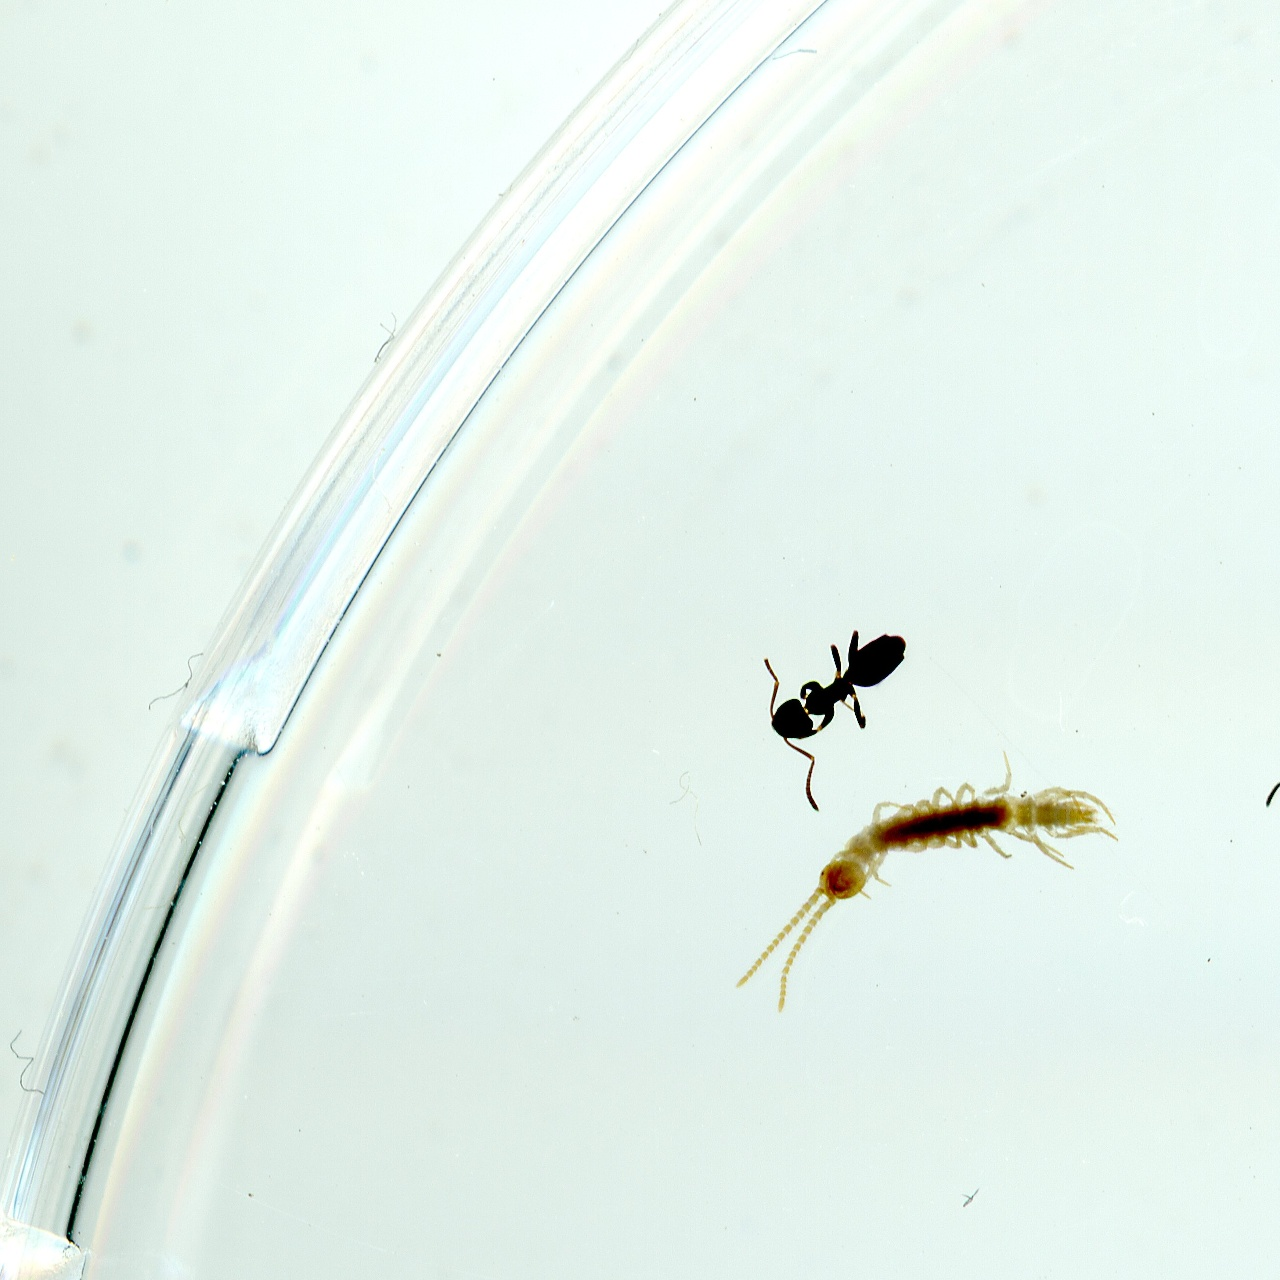arthropod: (738, 754, 1130, 1029), (745, 614, 907, 815), (1265, 704, 1280, 885)
